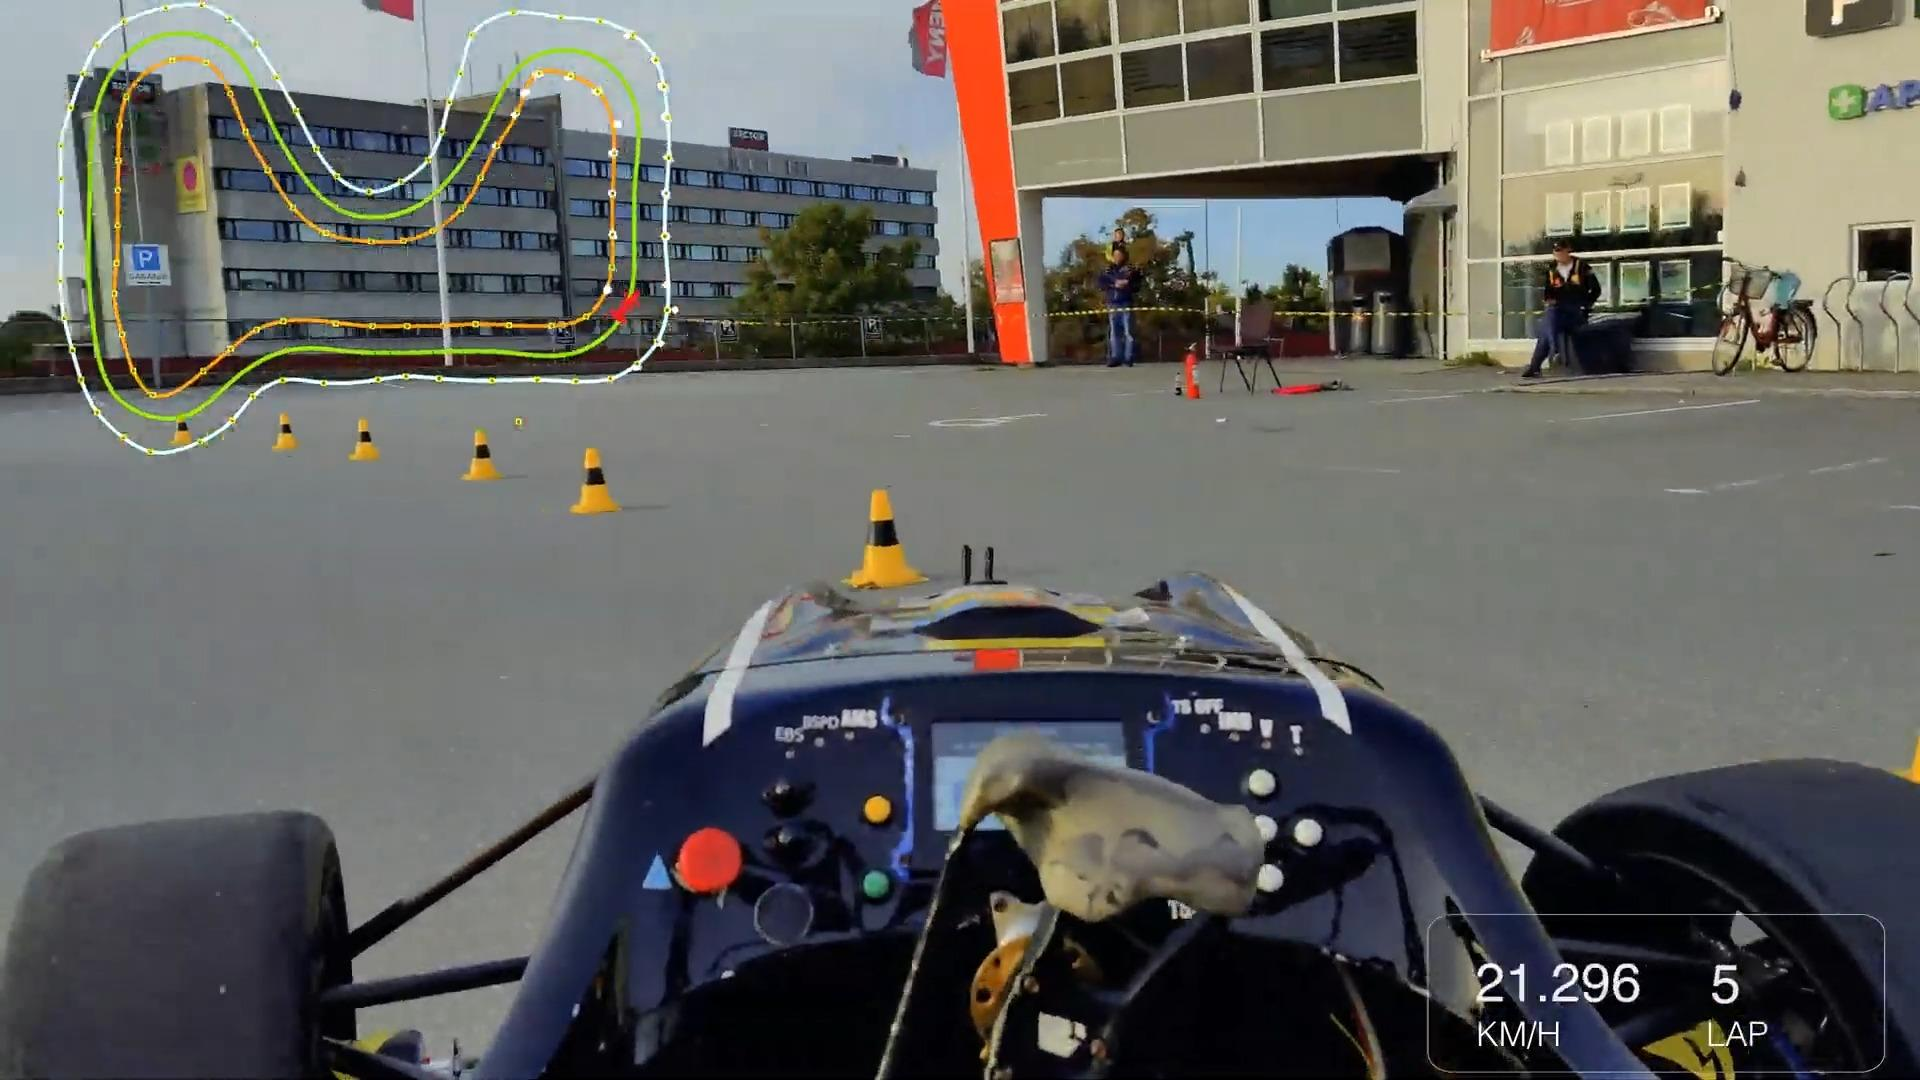yellow_cone: (836, 477, 939, 588), (567, 435, 620, 520), (462, 418, 505, 484), (349, 405, 382, 464), (272, 406, 303, 452), (170, 406, 195, 452)
